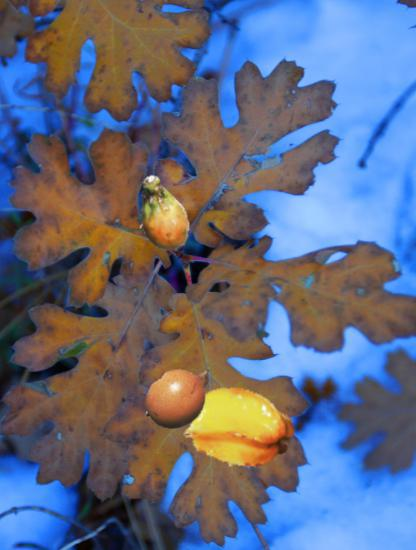Cactus: (124, 174, 203, 253)
Carambula: (183, 372, 297, 486)
Granadilla: (141, 355, 221, 435)
